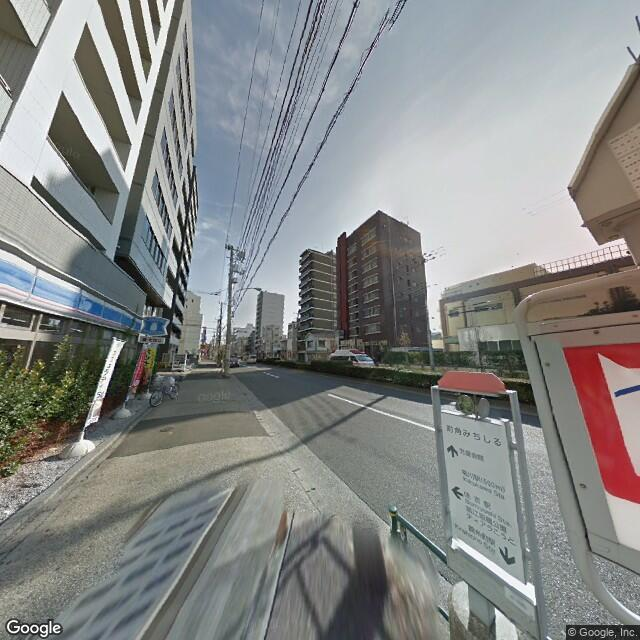lawson: (1, 257, 137, 335), (142, 312, 168, 338)
